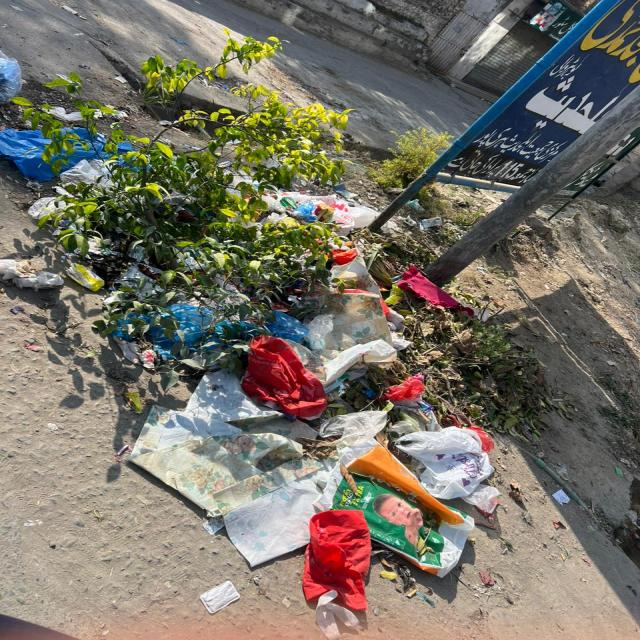garbage: (22, 85, 550, 602)
